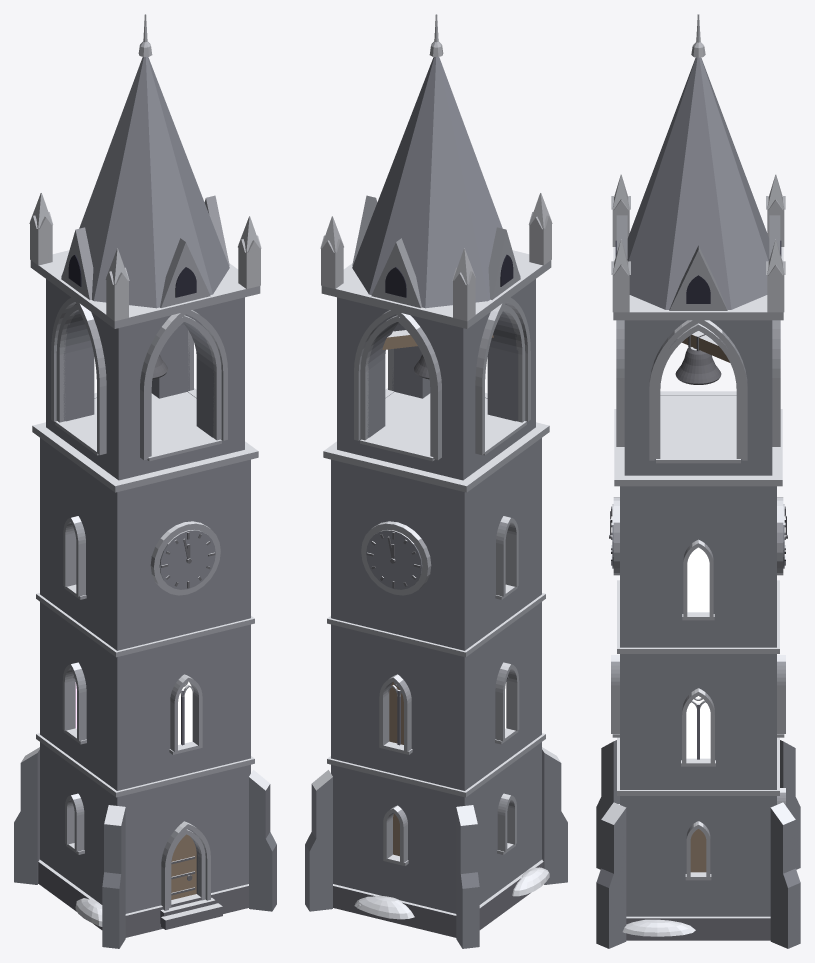
File: AR_Campanario.fbx
The picture shows the model from 3 angles, left to right: view 1: azimuth 30°, elevation 25°; view 2: azimuth 150°, elevation 25°; view 3: azimuth 270°, elevation 25°; orthographic projection.
Visible parts, largest first — view 1: AR_Campanario; view 2: AR_Campanario; view 3: AR_Campanario.
Boxes of the visible parts, left/top/right/bottom form: AR_Campanario: left=14, top=14, right=276, bottom=948; AR_Campanario: left=305, top=14, right=567, bottom=948; AR_Campanario: left=596, top=14, right=800, bottom=948.
Size of the model in its own units: 9.12 by 43.9 by 9.12.
